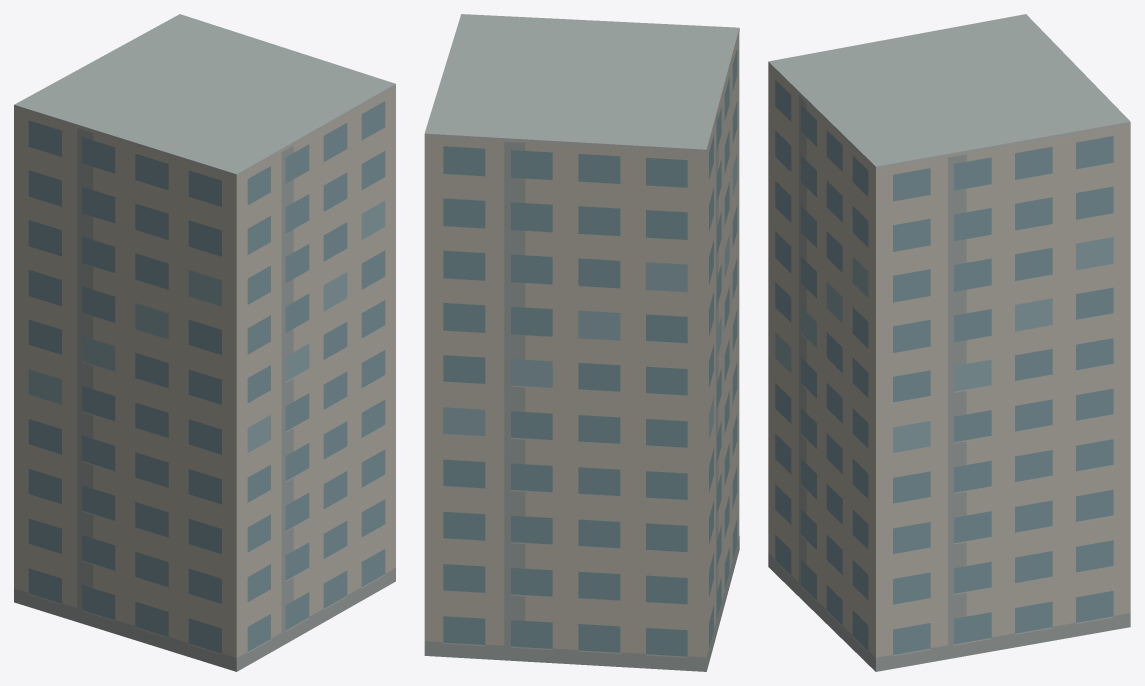
The model's file is residential-3430952c-9cf0-48cd-bf01-cc4021bb8bba.glb.
The picture shows the model from 3 angles, left to right: view 1: azimuth 30°, elevation 25°; view 2: azimuth 150°, elevation 25°; view 3: azimuth 270°, elevation 25°; orthographic projection. The views are drawn at different scales.
Visible parts, largest first — view 1: residential-3430952c-9cf0-48cd-bf01-cc4021bb8bba.tmp; view 2: residential-3430952c-9cf0-48cd-bf01-cc4021bb8bba.tmp; view 3: residential-3430952c-9cf0-48cd-bf01-cc4021bb8bba.tmp.
Part boxes in pixels (x1,y1,x2,y2): residential-3430952c-9cf0-48cd-bf01-cc4021bb8bba.tmp: (14, 14, 395, 671); residential-3430952c-9cf0-48cd-bf01-cc4021bb8bba.tmp: (424, 14, 739, 671); residential-3430952c-9cf0-48cd-bf01-cc4021bb8bba.tmp: (768, 14, 1130, 671).
Bounding box in the file's own units: 21.37 × 33 × 21.46.
